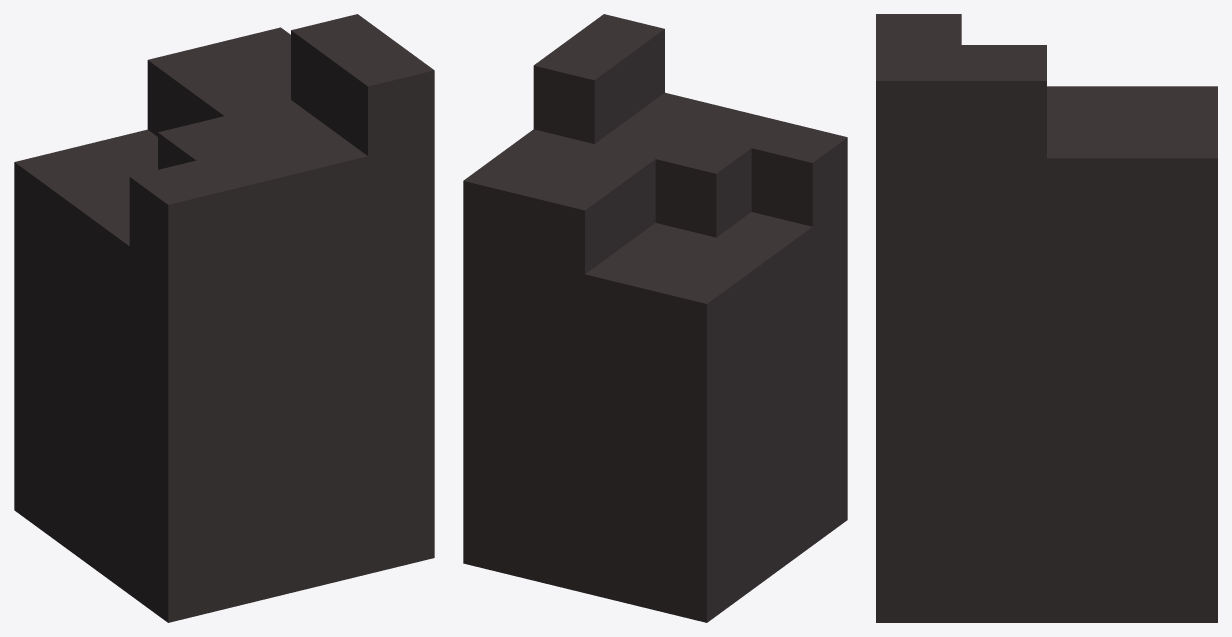
The model's file is panda__leg_fl.glb.
3 renders of one model, left to right at view 1: azimuth 30°, elevation 25°; view 2: azimuth 150°, elevation 25°; view 3: azimuth 270°, elevation 25°, orthographic. The views are drawn at different scales.
Visible parts, largest first — view 1: panda__leg_fl; view 2: panda__leg_fl; view 3: panda__leg_fl.
Part boxes in pixels (bbox=[...]): panda__leg_fl: bbox=[14, 14, 434, 622]; panda__leg_fl: bbox=[463, 14, 847, 622]; panda__leg_fl: bbox=[876, 14, 1217, 622].
Size of the model in its own units: 0.4 by 0.7 by 0.4.
Materials: 1 (1 with a texture image).
